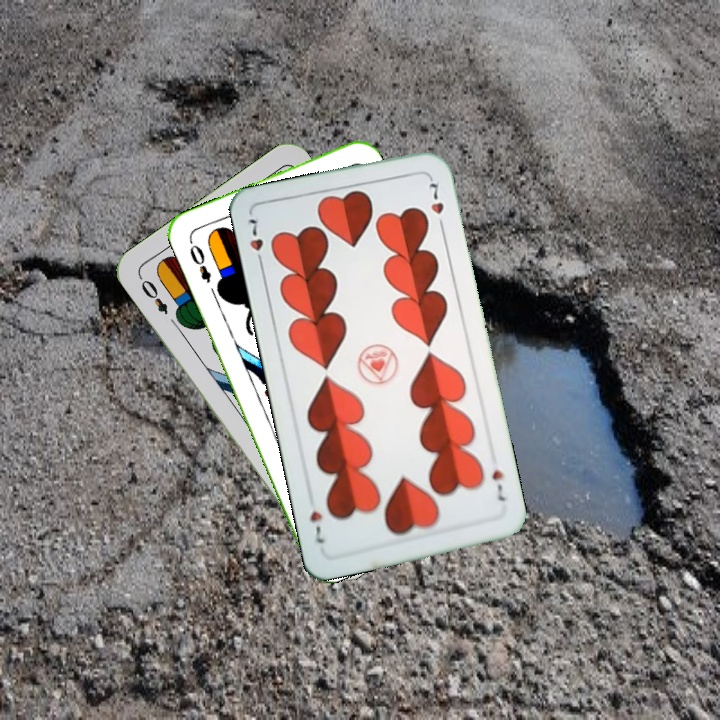EO: (134, 272, 171, 317), (185, 235, 214, 285)
H7: (244, 214, 266, 270), (487, 466, 508, 504)
